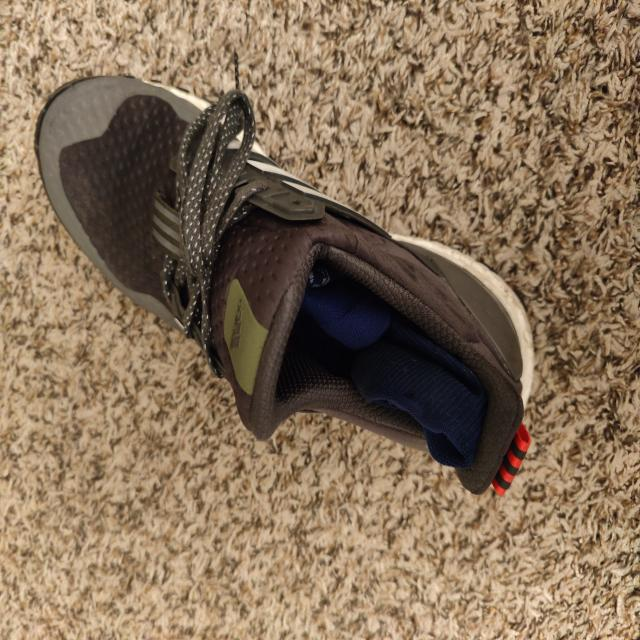black shoes: (46, 93, 528, 494)
